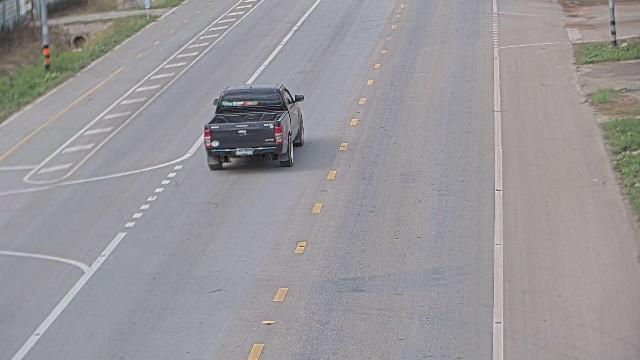pickup-truck: (203, 83, 305, 170)
